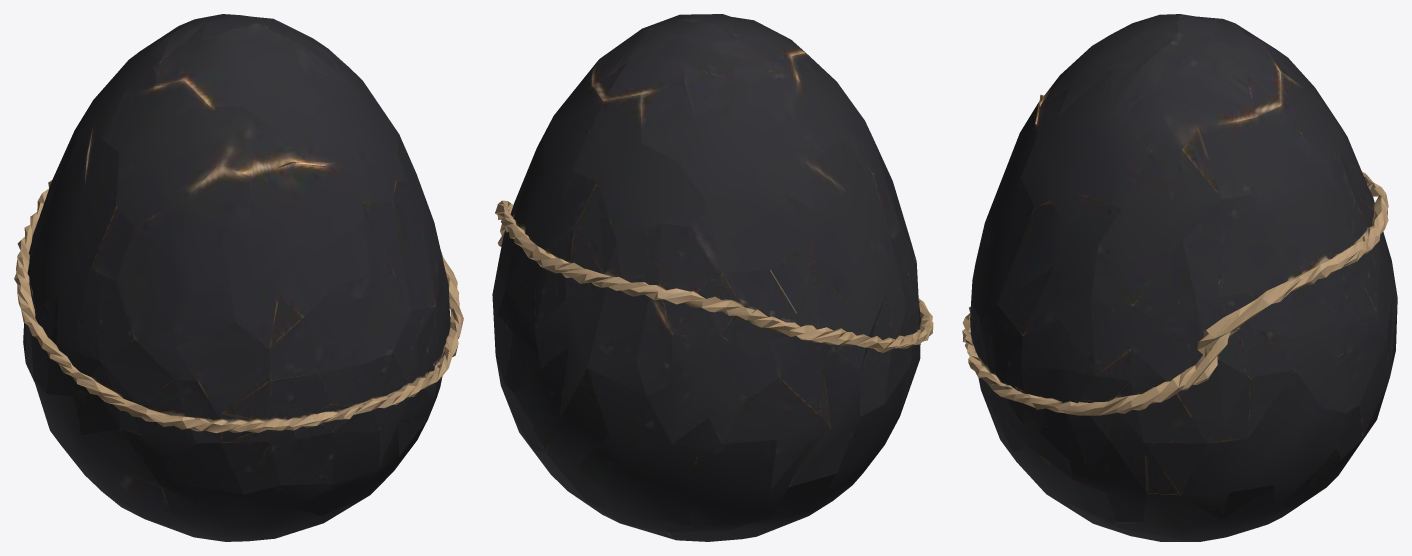
File: east_emberstone.glb
The picture shows the model from 3 angles, left to right: view 1: azimuth 30°, elevation 25°; view 2: azimuth 150°, elevation 25°; view 3: azimuth 270°, elevation 25°; orthographic projection.
Visible parts, largest first — view 1: Mesh_0; view 2: Mesh_0; view 3: Mesh_0.
Part boxes in pixels (x1,y1,x2,y2): Mesh_0: [14, 14, 463, 541]; Mesh_0: [492, 14, 933, 541]; Mesh_0: [962, 14, 1397, 541].
Size of the model in its own units: 0.6715 by 0.8 by 0.6359.
1 material, 1 textured.
